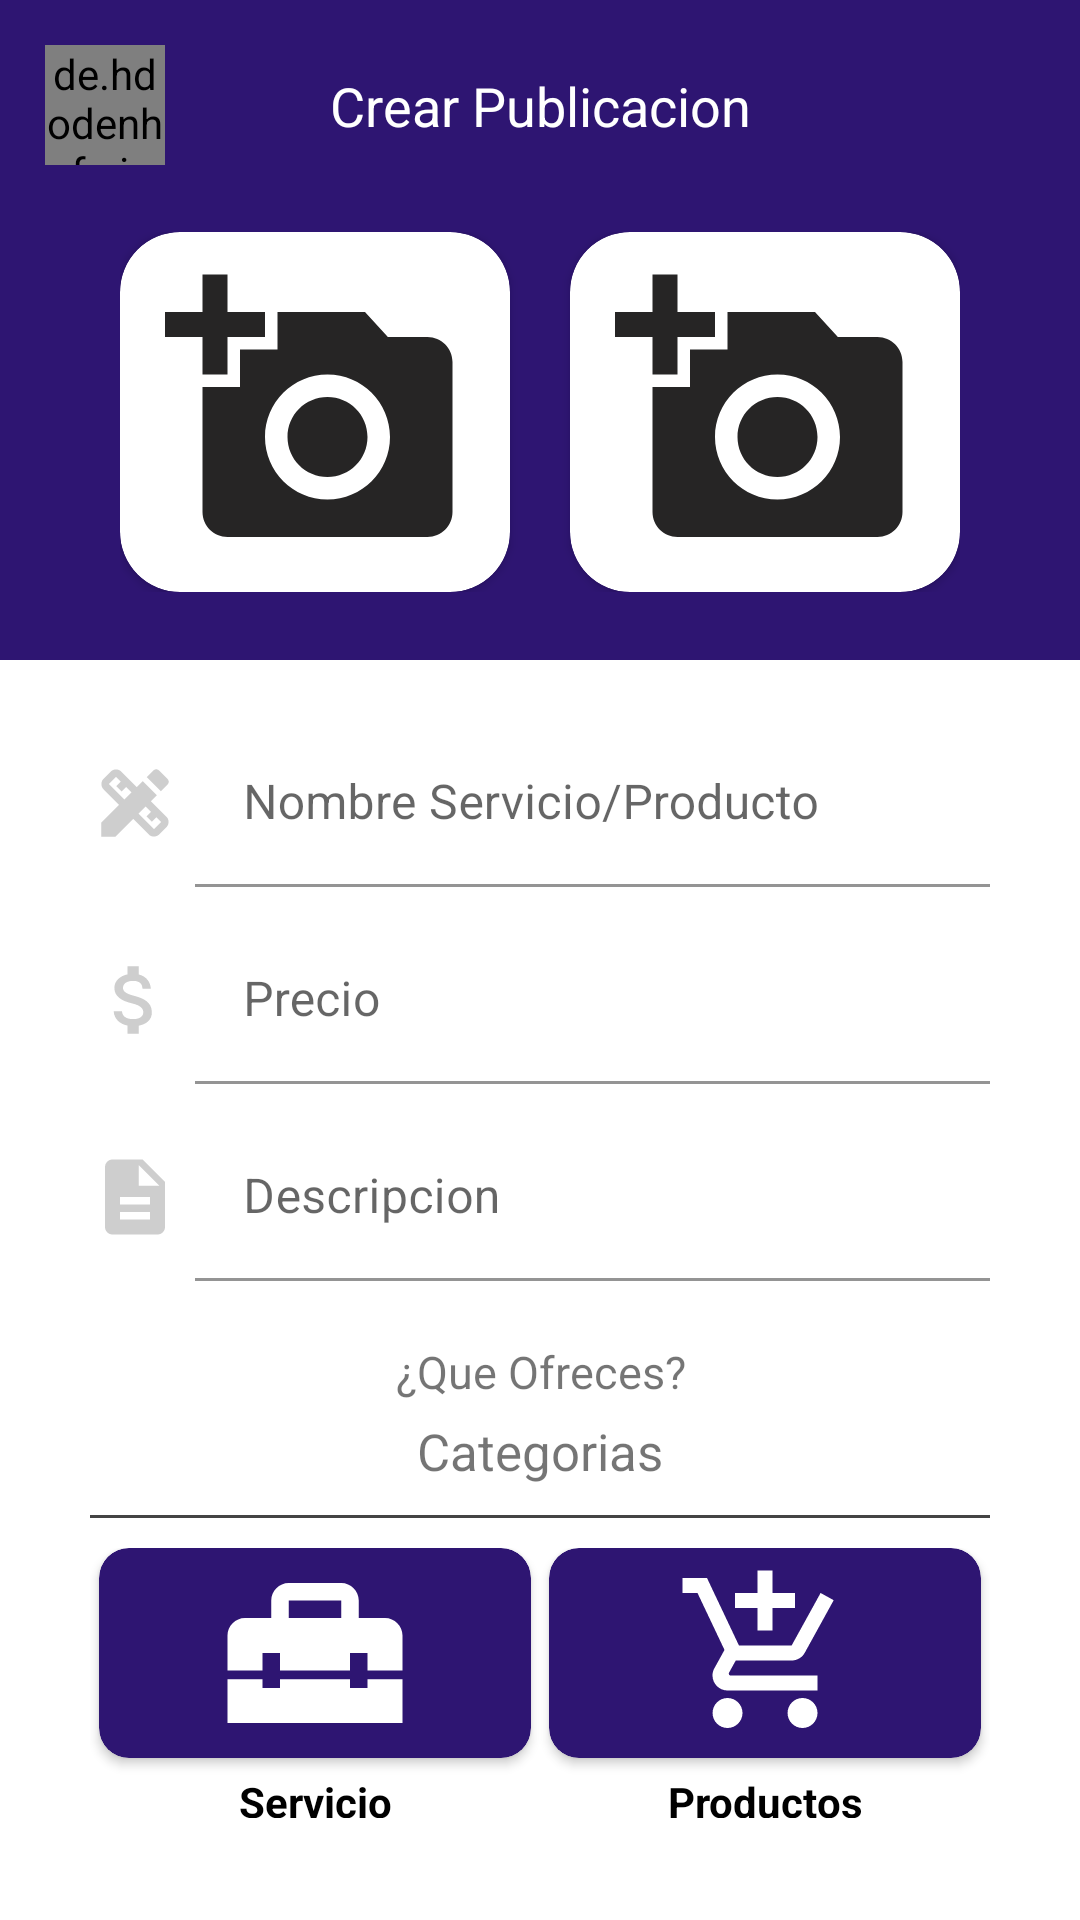

Point at icon controls on the screen. Image size 1080*1920, points as (x,y).
description: (135,1197)
price: (133,1000)
